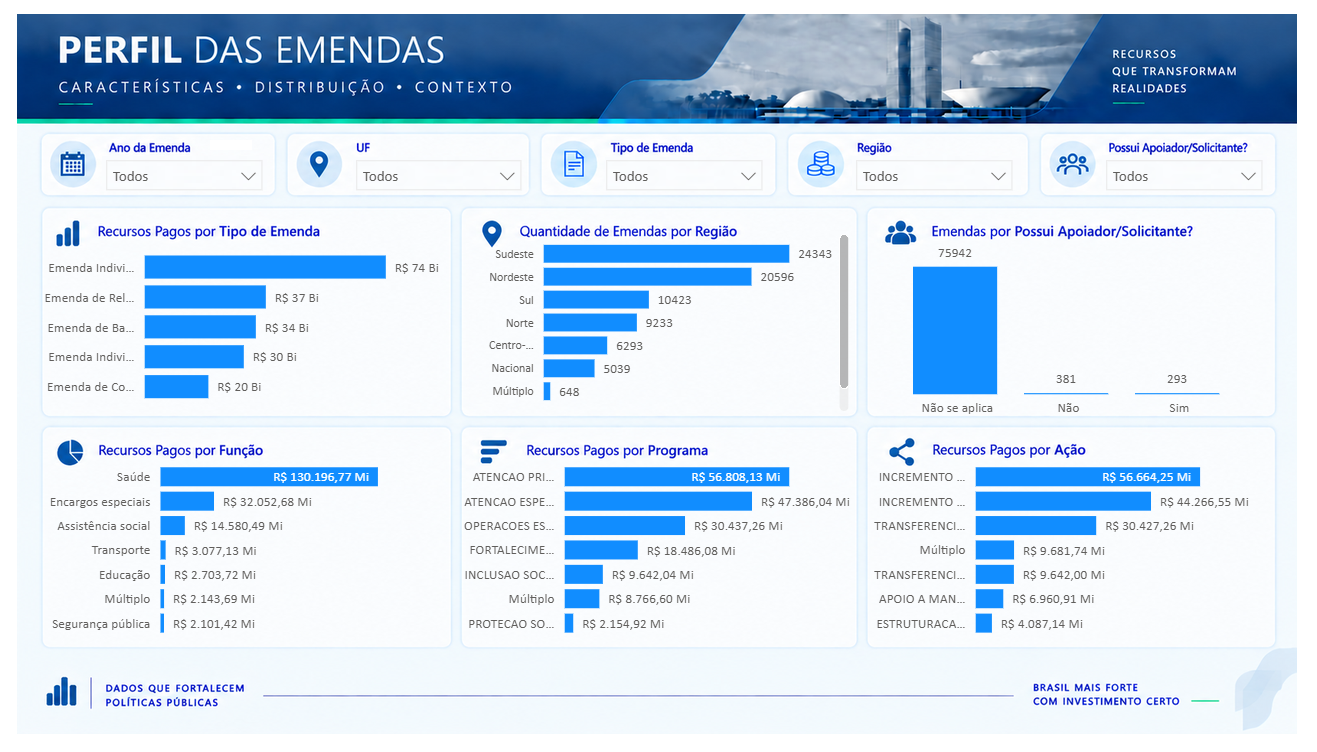

Layout of this report page (visuals, bound fields, positions):
{"tool":"powerbi","page":{"name":"Perfil das Emendas","canvas":[1280,720],"ordinal":3},"visuals":[{"type":"barChart","fields":{"Category":["EmendasParlamentares.Tipo de Emenda"],"Y":["EmendasParlamentares.Total Pago"]},"box":[88,232,384,168],"z":0},{"type":"slicer","fields":{"Values":["EmendasParlamentares.Região"]},"box":[824,160,160,40],"z":1},{"type":"slicer","fields":{"Values":["EmendasParlamentares.UF"]},"box":[376,160,168,40],"z":2},{"type":"slicer","fields":{"Values":["EmendasParlamentares.Tipo de Emenda"]},"box":[600,160,160,40],"z":3},{"type":"slicer","fields":{"Values":["EmendasParlamentares.Possui Apoiador/Solicitante? "]},"box":[1048,160,160,40],"z":4},{"type":"slicer","fields":{"Values":["EmendasParlamentares.Ano da Emenda"]},"box":[152,160,160,40],"z":5},{"type":"barChart","fields":{"Category":["EmendasParlamentares.Região"],"Y":["EmendasParlamentares.Quantidade de Emendas"]},"box":[488,224,344,176],"z":6},{"type":"columnChart","fields":{"Category":["EmendasParlamentares.Possui Apoiador/Solicitante? "],"Y":["EmendasParlamentares.Quantidade de Emendas"]},"box":[840,232,368,176],"z":7},{"type":"barChart","fields":{"Category":["EmendasParlamentares.Nome Função"],"Y":["EmendasParlamentares.Total Pago"]},"box":[104,424,384,184],"z":8},{"type":"barChart","fields":{"Category":["EmendasParlamentares.Nome Programa"],"Y":["EmendasParlamentares.Total Pago"]},"box":[464,424,384,184],"z":9},{"type":"barChart","fields":{"Y":["EmendasParlamentares.Total Pago"],"Category":["EmendasParlamentares.Nome Ação"]},"box":[832,424,384,184],"z":10}]}

Visuals, with their boxes in screenshot pixels (x1, y1, x2, y2), scaled from the page's 1280x720 canvas onto the 1317x752 screenshot:
barChart - EmendasParlamentares.Tipo de Emenda x EmendasParlamentares.Total Pago: (91,242,486,418)
slicer - EmendasParlamentares.Região: (848,167,1012,209)
slicer - EmendasParlamentares.UF: (387,167,560,209)
slicer - EmendasParlamentares.Tipo de Emenda: (617,167,782,209)
slicer - EmendasParlamentares.Possui Apoiador/Solicitante? : (1078,167,1243,209)
slicer - EmendasParlamentares.Ano da Emenda: (156,167,321,209)
barChart - EmendasParlamentares.Região x EmendasParlamentares.Quantidade de Emendas: (502,234,856,418)
columnChart - EmendasParlamentares.Possui Apoiador/Solicitante?  x EmendasParlamentares.Quantidade de Emendas: (864,242,1243,426)
barChart - EmendasParlamentares.Nome Função x EmendasParlamentares.Total Pago: (107,443,502,635)
barChart - EmendasParlamentares.Nome Programa x EmendasParlamentares.Total Pago: (477,443,873,635)
barChart - EmendasParlamentares.Total Pago x EmendasParlamentares.Nome Ação: (856,443,1251,635)
